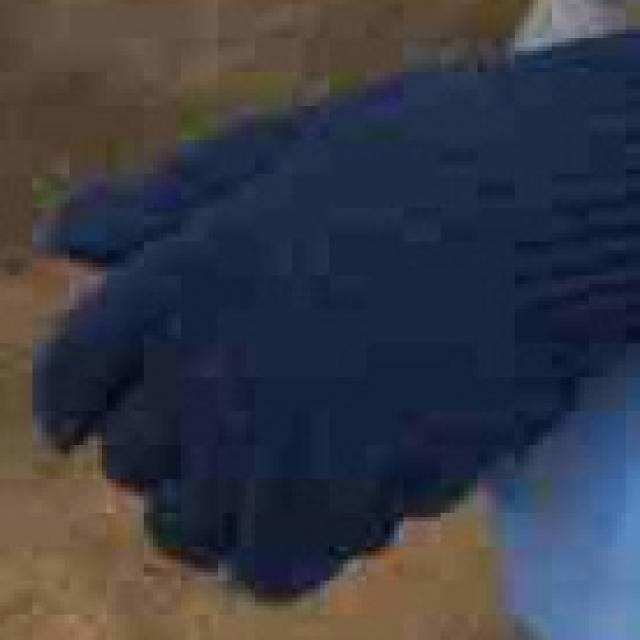other: (37, 38, 640, 593)
